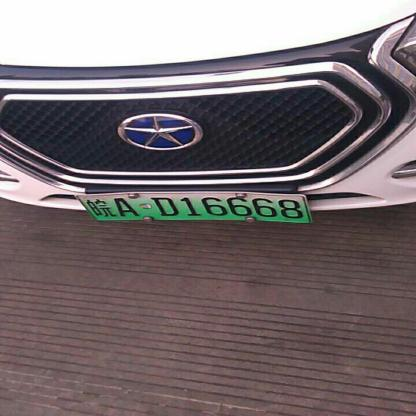lp: (77, 195, 309, 222)
